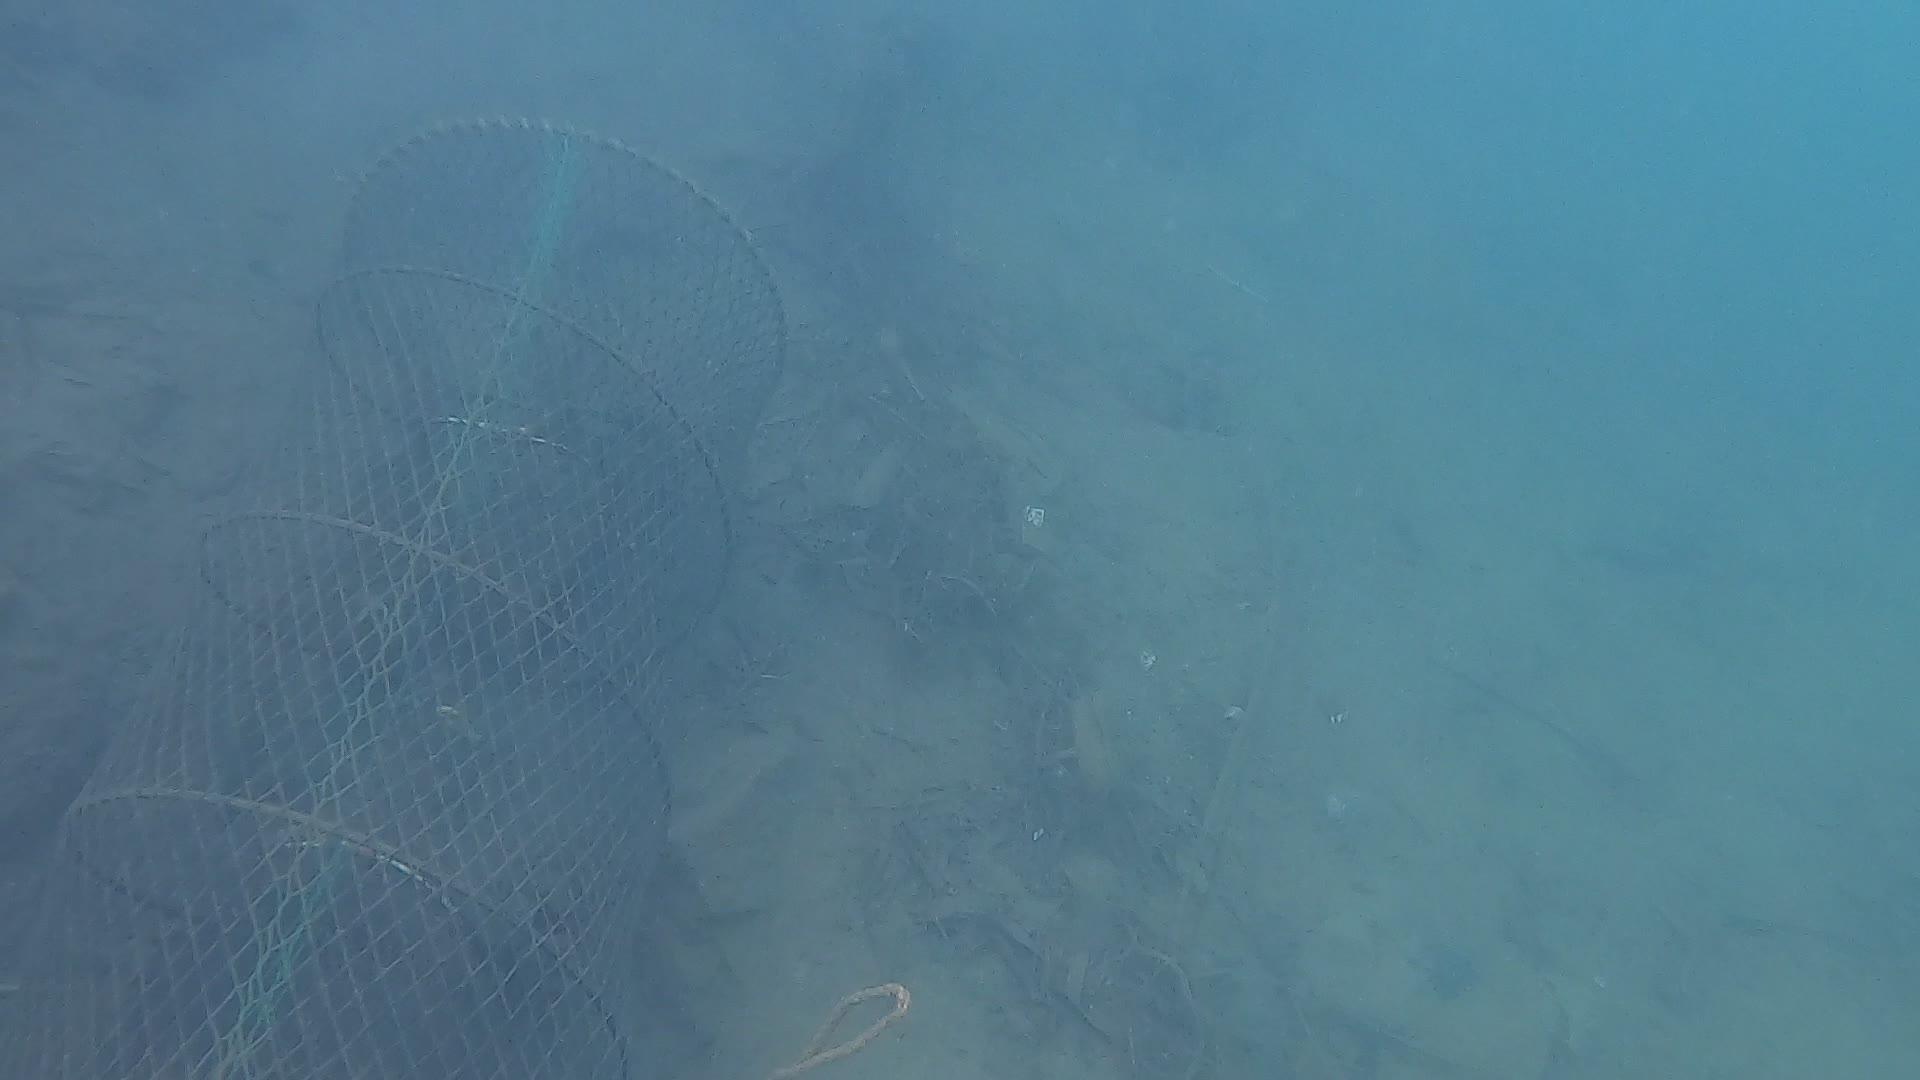spring fish trap: (0, 113, 789, 1080)
